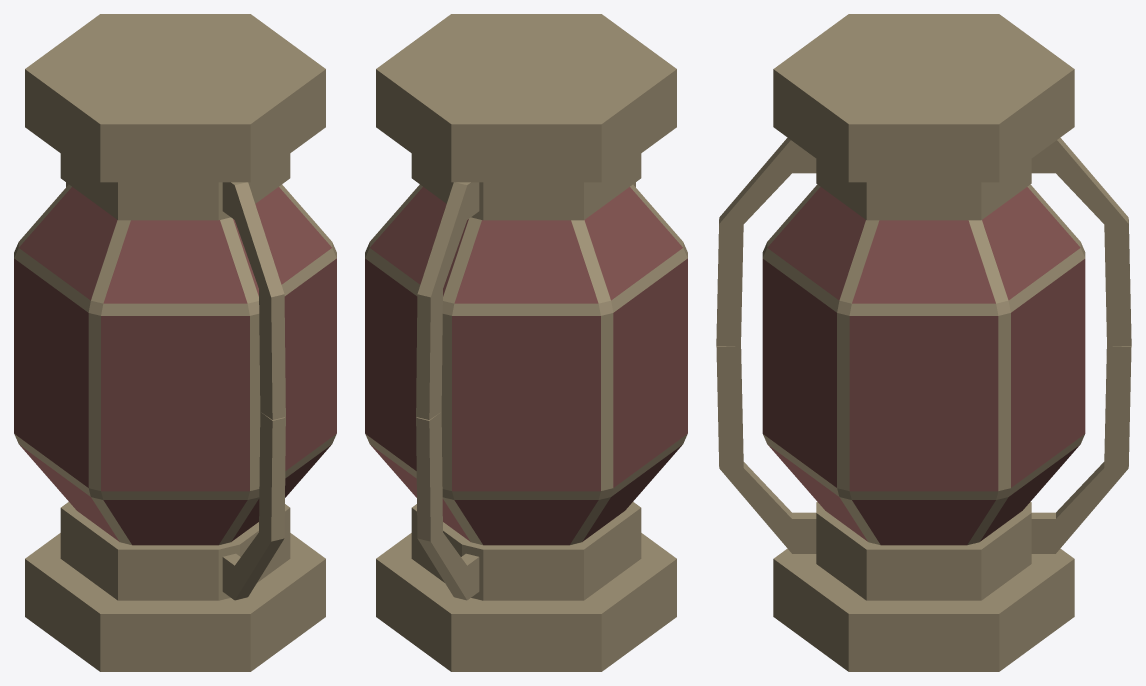
Rendered from lantern.fbx.
3 views of the same model, side by side, from view 1: azimuth 30°, elevation 25°; view 2: azimuth 150°, elevation 25°; view 3: azimuth 270°, elevation 25° (orthographic).
Parts seen in each view (by area): view 1: Cylinder.001; view 2: Cylinder.001; view 3: Cylinder.001.
Part boxes in pixels (x1=…): Cylinder.001: x1=14, y1=14, x2=336, y2=671; Cylinder.001: x1=365, y1=14, x2=687, y2=671; Cylinder.001: x1=716, y1=14, x2=1131, y2=671.
Bounding box in the file's own units: 0.1782 × 0.3758 × 0.258.
